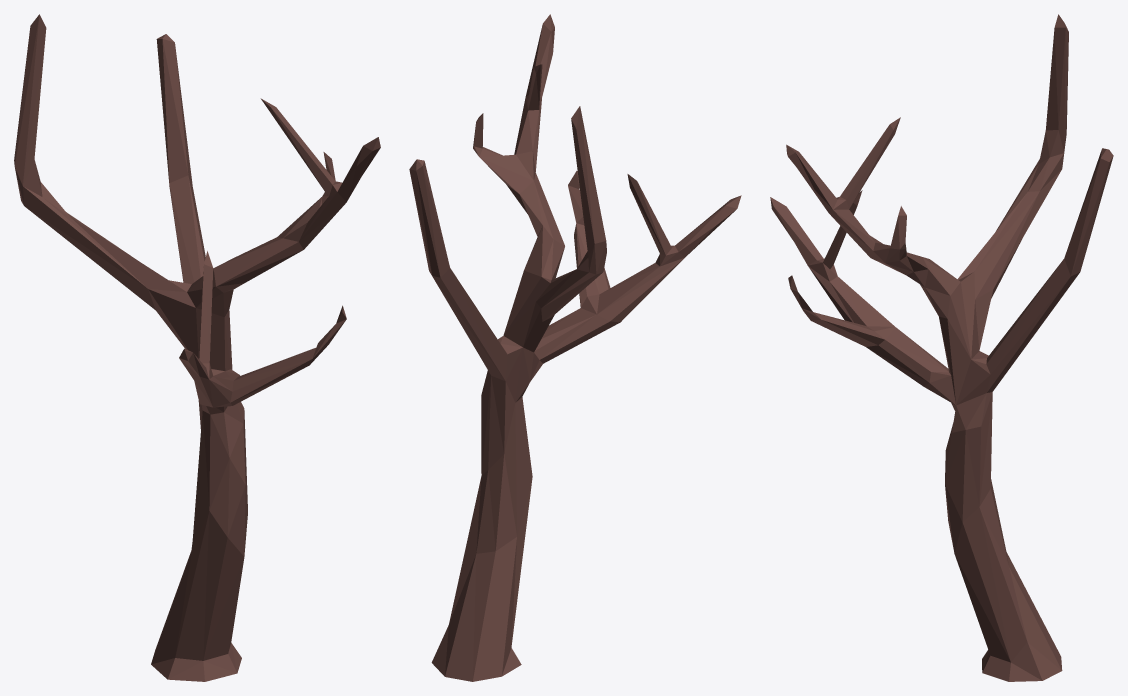
Rendered from CommonTree_Dead_5.lod2.glb.
3 renders of one model, left to right at view 1: azimuth 30°, elevation 25°; view 2: azimuth 150°, elevation 25°; view 3: azimuth 270°, elevation 25°, orthographic. The views are drawn at different scales.
Visible parts, largest first — view 1: CommonTree_Dead_5; view 2: CommonTree_Dead_5; view 3: CommonTree_Dead_5.
Part boxes in pixels (x1,y1,x2,y2): CommonTree_Dead_5: (14, 14, 380, 681); CommonTree_Dead_5: (409, 14, 741, 681); CommonTree_Dead_5: (770, 14, 1113, 681).
Bounding box in the file's own units: 0.8433 × 2.29 × 1.2.
